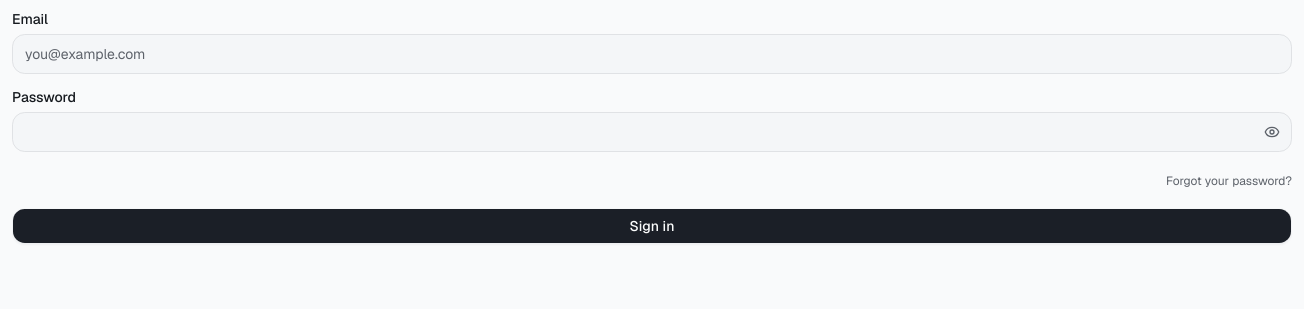
Test: SignInForm › shows validation errors for empty submission
This screenshot has width=1304, height=309.
Click the button "Sign in": coordinates (652, 226) [12,208,1292,244]
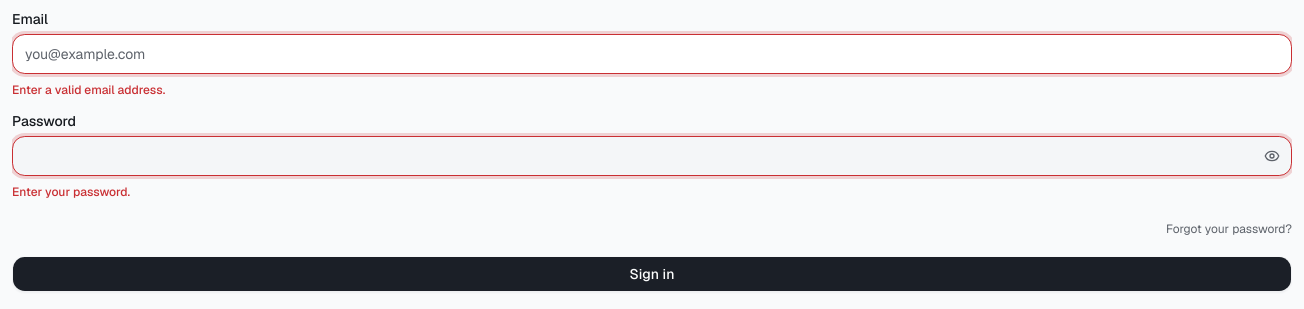
Result: the text "Enter a valid email address." is shown at [12,82,165,98]
Result: the text "Enter your password." is shown at [12,184,130,200]
